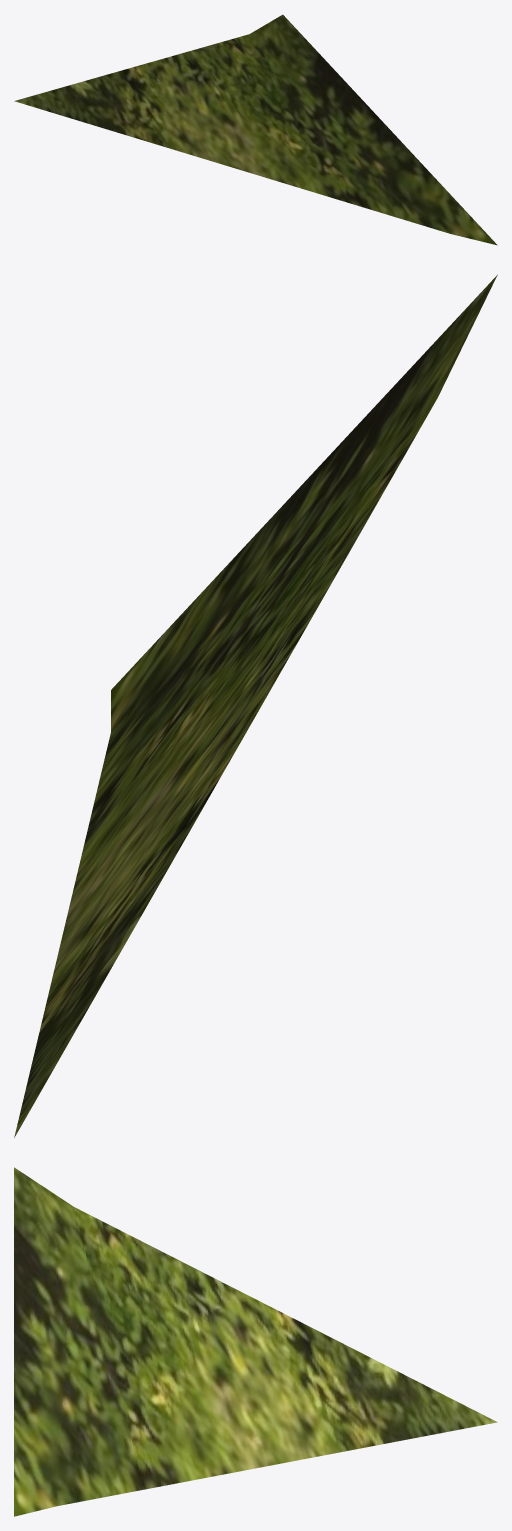
3 views of the same model, one above another, from view 1: azimuth 30°, elevation 25°; view 2: azimuth 150°, elevation 25°; view 3: azimuth 270°, elevation 25° (orthographic). The views are drawn at different scales.
Bounding box in the file's own units: 1.3 × 1.64 × 2.82.
1 material, 1 textured.
